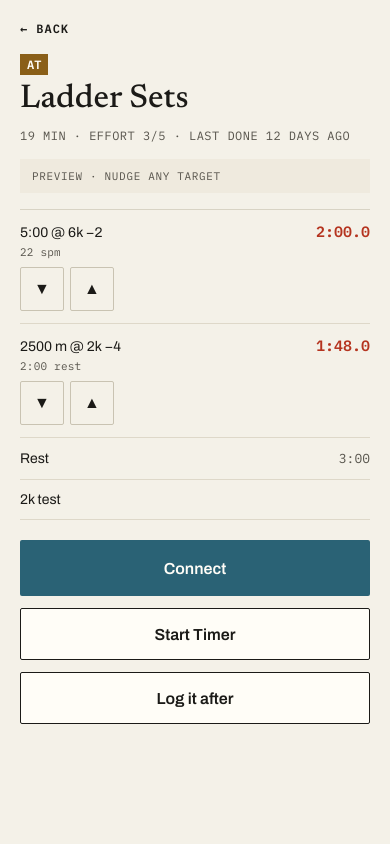
WorkoutDetail › the arrows follow the number (James, 2026-08-16): ▲ is the slower/+1s button, ▼ the faster/−1s one
Expected: the button named "Nudge faster" reads "▼", [20,267,64,311]
Click the button named "Nudge slower": (92, 289) [70,267,114,311]
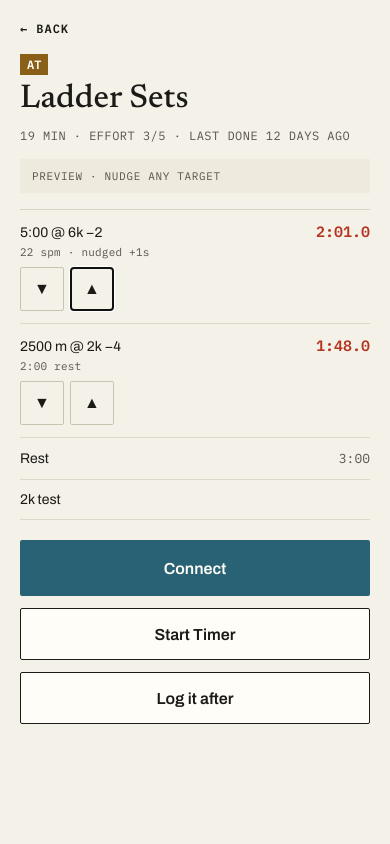
Result: the text "2:01.0" is shown at [316,222,370,241]
